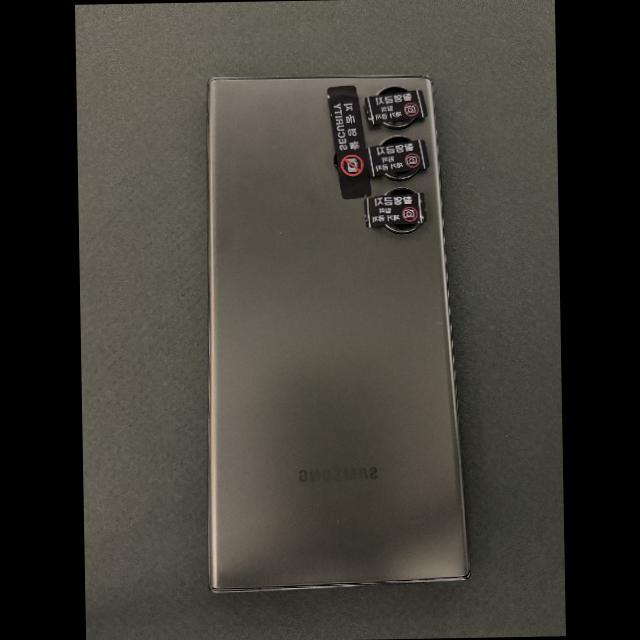lens: (384, 224, 421, 232), (388, 168, 417, 177), (380, 121, 411, 127)
phone: (207, 76, 469, 593)
sticker: (325, 84, 371, 200), (364, 193, 428, 229), (365, 88, 426, 125), (367, 139, 428, 176)
